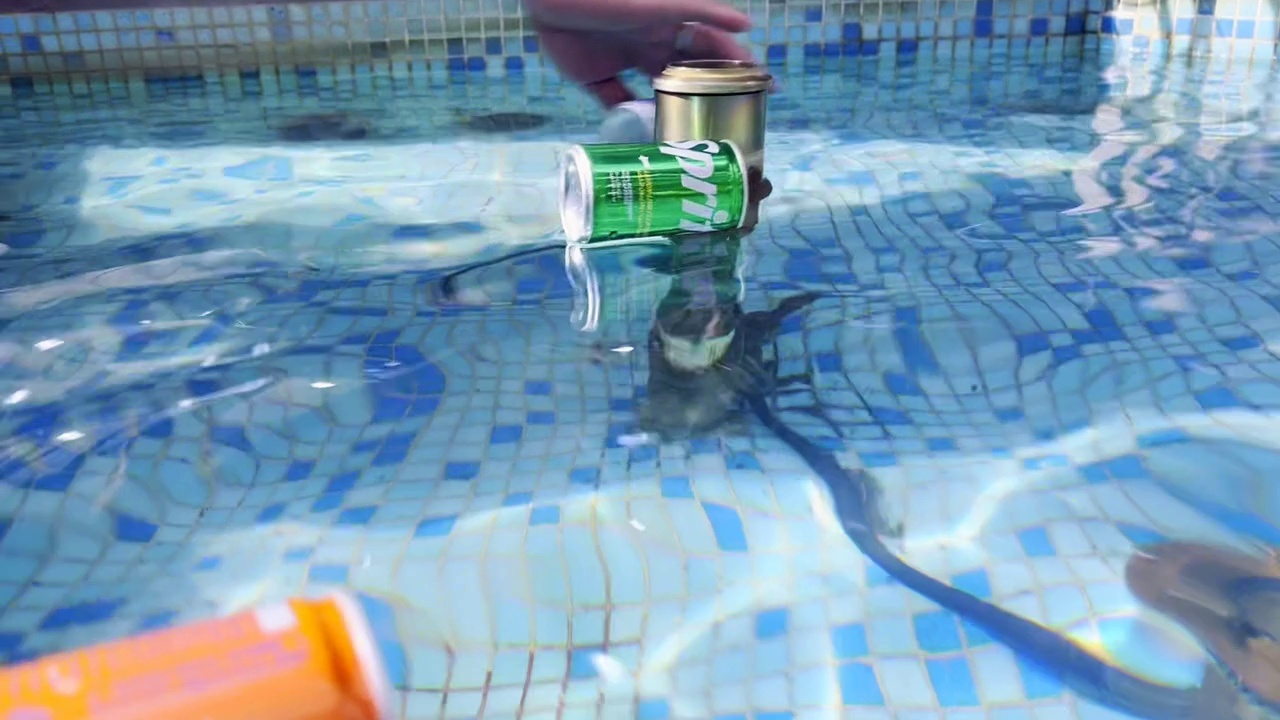debris: (0, 555, 400, 720), (547, 120, 761, 249), (590, 80, 680, 152)
